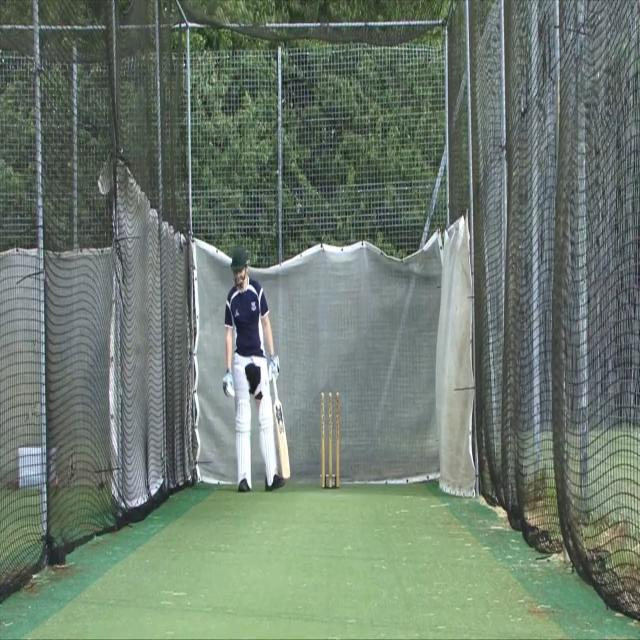batsman: (221, 245, 292, 495)
